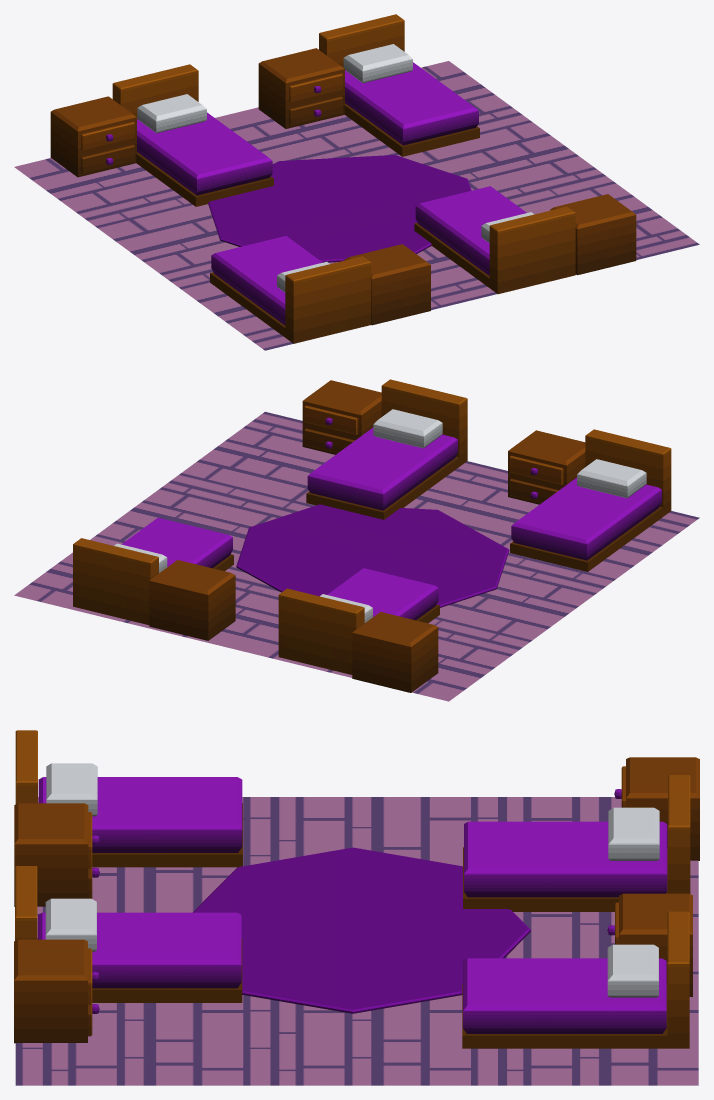
The model's file is s1_Bedroom1_v1.fbx.
The picture shows the model from 3 angles, top to bottom: view 1: azimuth 30°, elevation 25°; view 2: azimuth 150°, elevation 25°; view 3: azimuth 270°, elevation 25°; orthographic projection. The views are drawn at different scales.
Visible parts, largest first — view 1: s1_Bedroom1_v1; view 2: s1_Bedroom1_v1; view 3: s1_Bedroom1_v1.
Part boxes in pixels (box(x1,y1,x2,y2)): s1_Bedroom1_v1: box(14, 14, 699, 350); s1_Bedroom1_v1: box(14, 379, 699, 701); s1_Bedroom1_v1: box(14, 730, 699, 1085).
Bounding box in the file's own units: 900 × 125 × 904.
